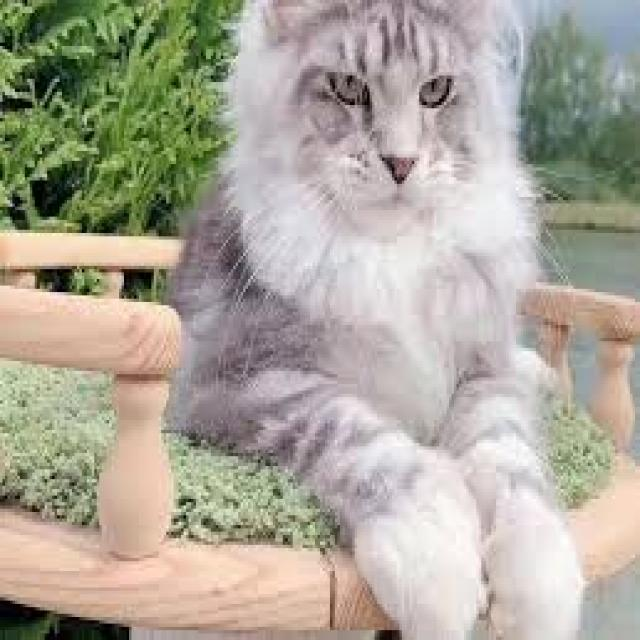cat: (136, 0, 603, 640)
